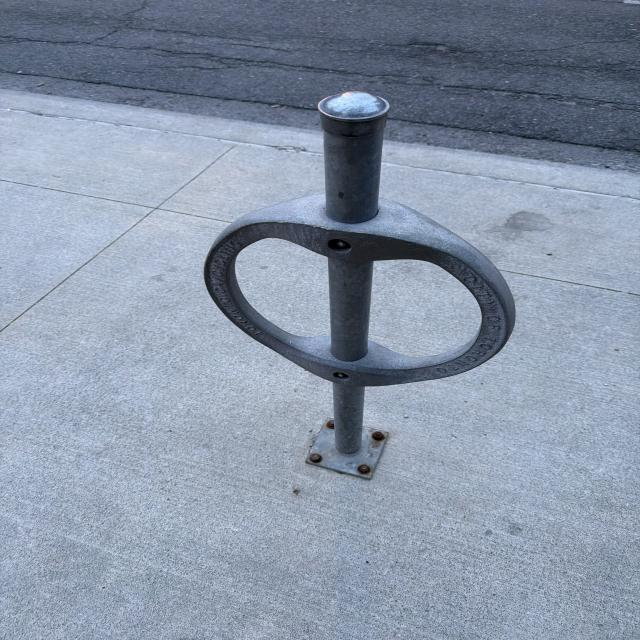Bicycle Rack: (205, 94, 517, 480)
